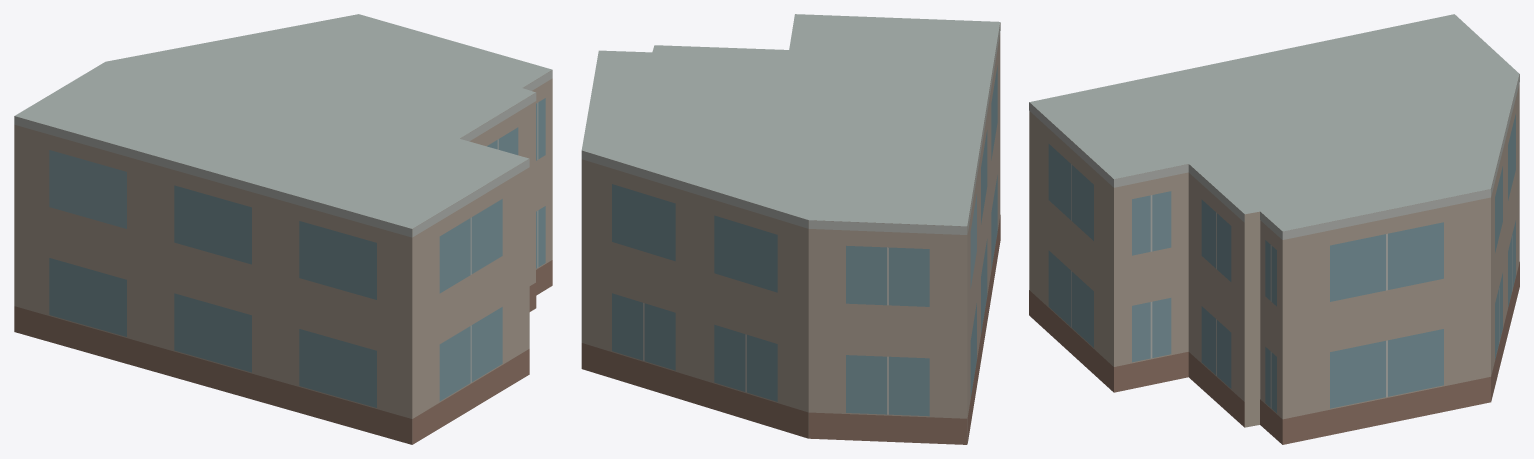
Rendered from survey-upis-33014674.glb.
3 renders of one model, left to right at view 1: azimuth 30°, elevation 25°; view 2: azimuth 150°, elevation 25°; view 3: azimuth 270°, elevation 25°, orthographic. The views are drawn at different scales.
Visible parts, largest first — view 1: survey-upis-33014674.tmp; view 2: survey-upis-33014674.tmp; view 3: survey-upis-33014674.tmp.
Part boxes in pixels (left/top/right/bottom): survey-upis-33014674.tmp: left=14, top=14, right=552, bottom=444; survey-upis-33014674.tmp: left=581, top=14, right=1000, bottom=444; survey-upis-33014674.tmp: left=1029, top=14, right=1519, bottom=444.
Size of the model in its own units: 13.35 by 6.1 by 12.72.
